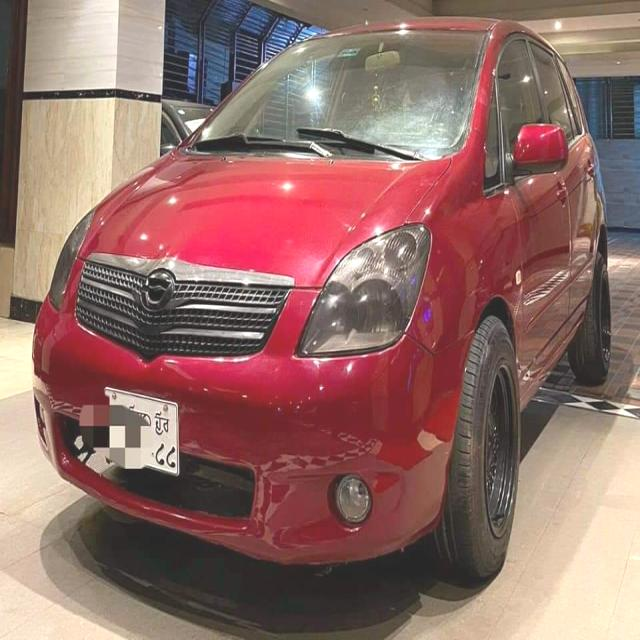red: (28, 13, 596, 561)
